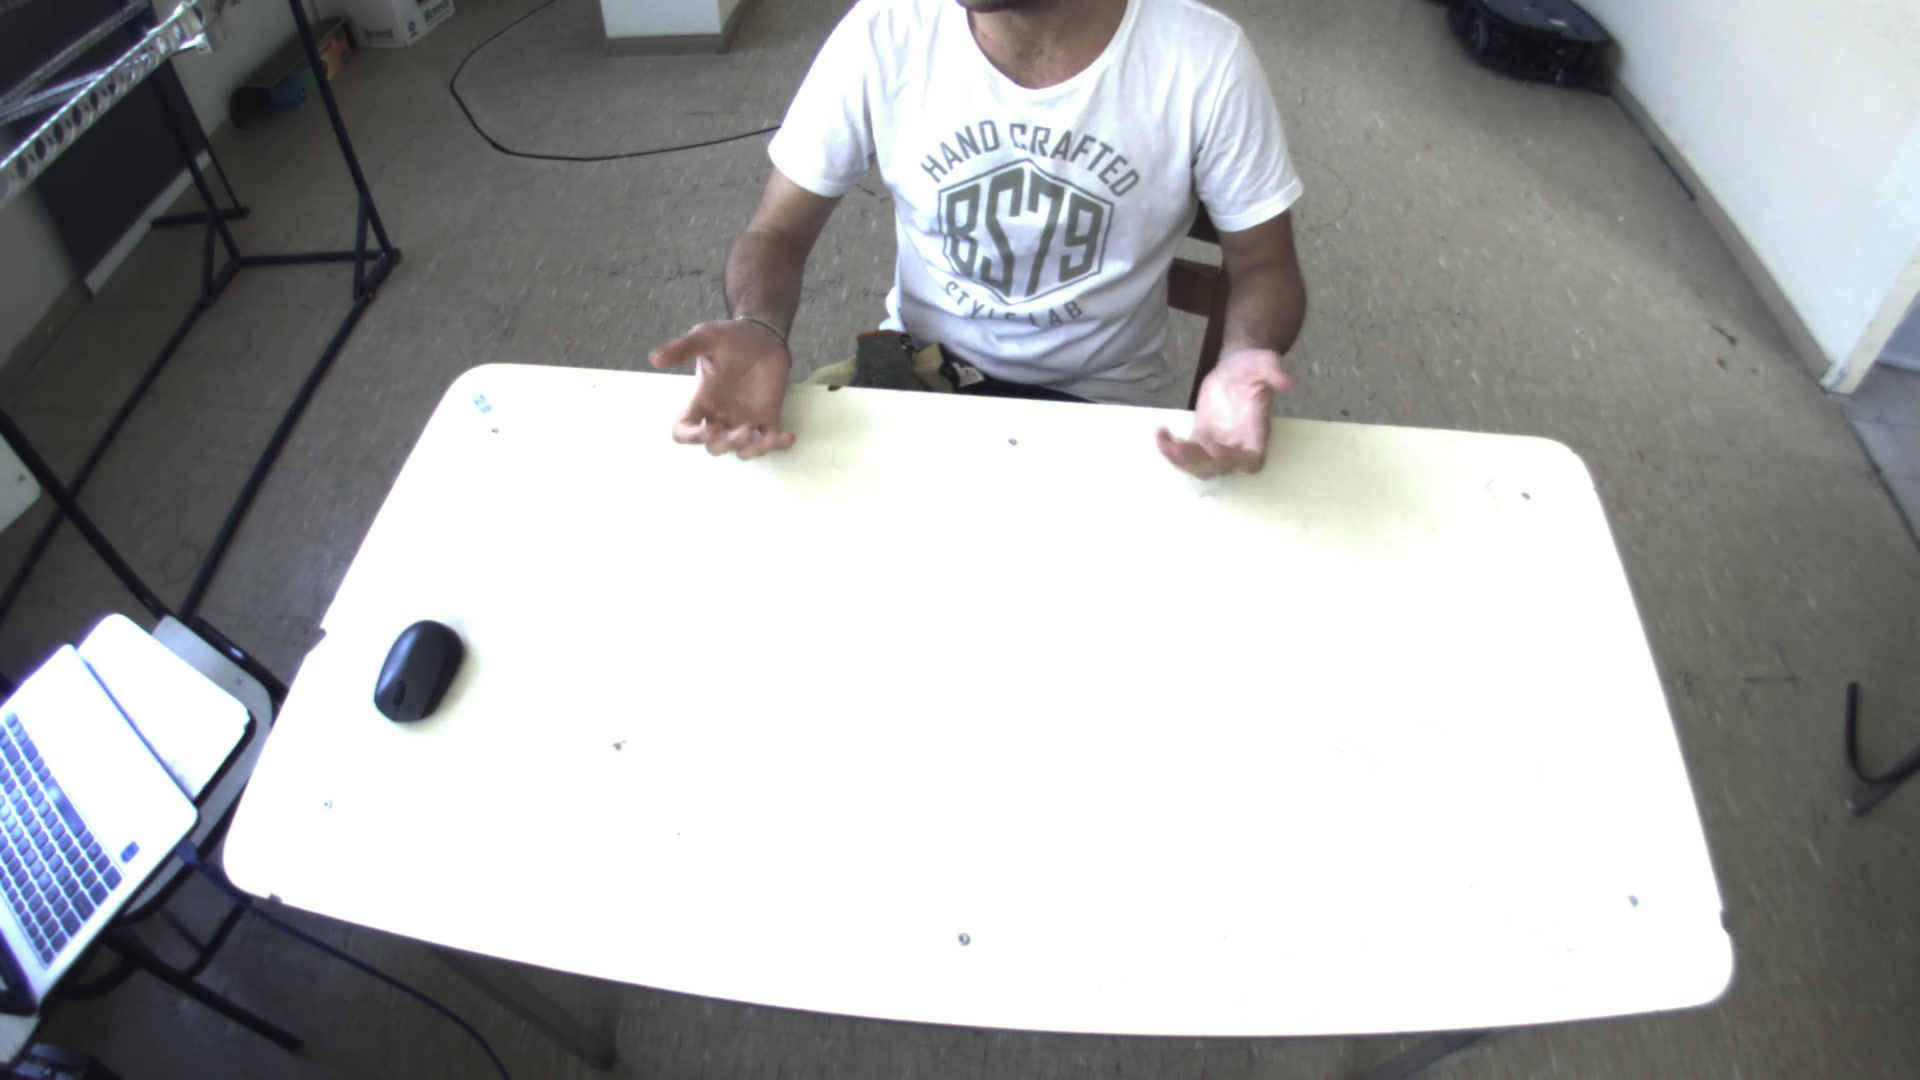hand: (640, 301, 808, 460), (1149, 342, 1307, 487)
